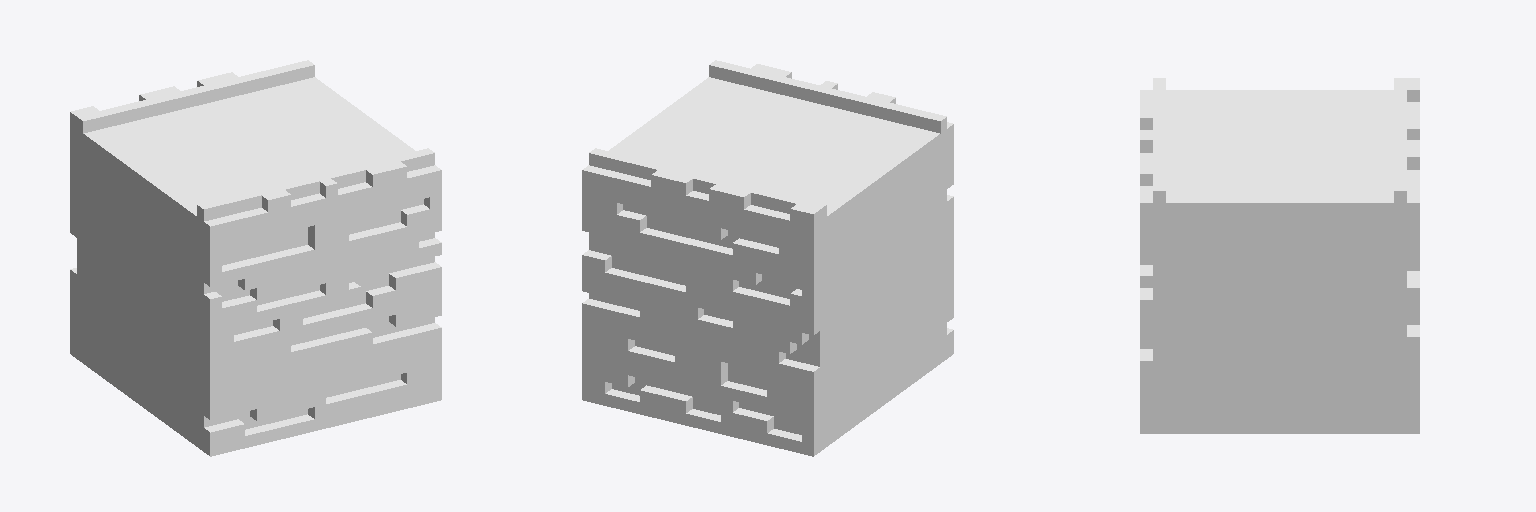
The model's file is wall.obj.
3 renders of one model, left to right at view 1: azimuth 30°, elevation 25°; view 2: azimuth 150°, elevation 25°; view 3: azimuth 270°, elevation 25°, orthographic.
Bounding box in the file's own units: 20 × 20 × 21.